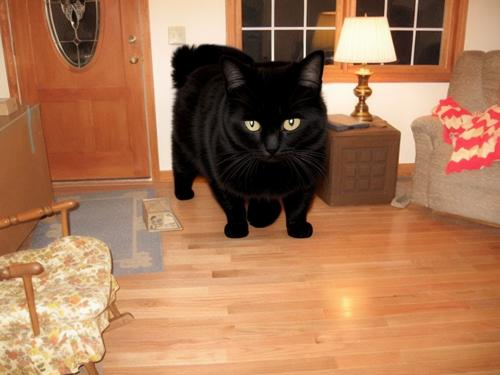cat: (171, 44, 328, 237)
chair: (1, 199, 137, 375)
person: (212, 85, 284, 137)
person/hand: (254, 99, 269, 110)
person/head: (235, 85, 261, 113)
sofa: (408, 50, 500, 227)
